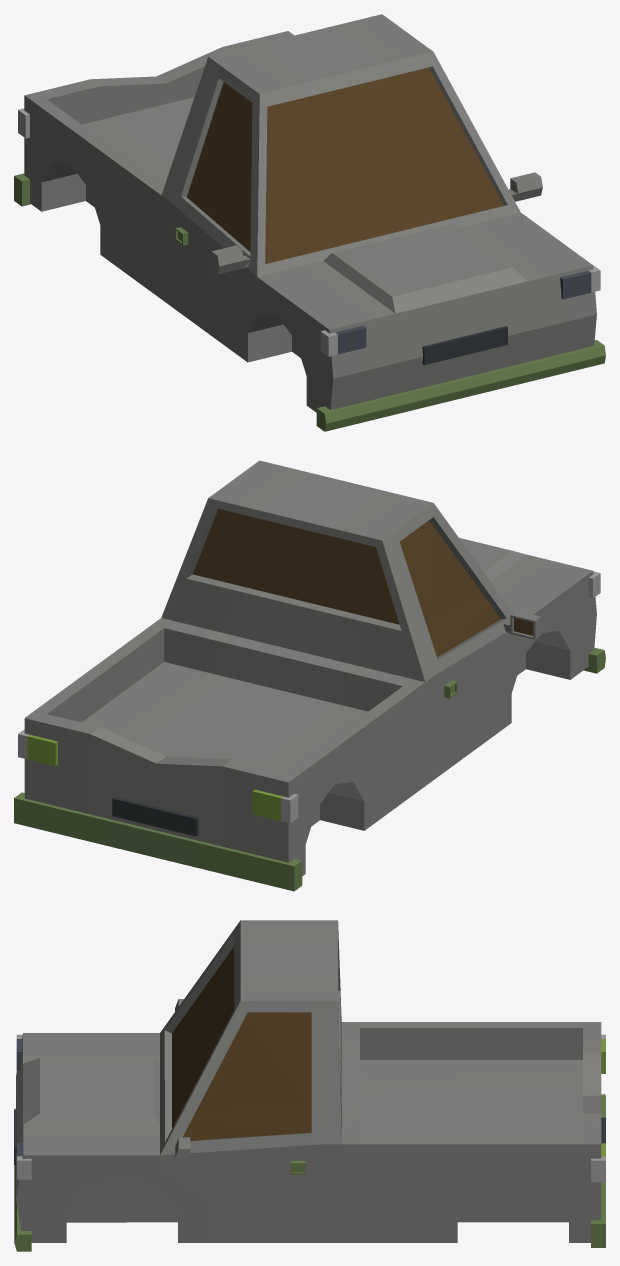
Rendered from Car_18.fbx.
3 renders of one model, top to bottom at view 1: azimuth 30°, elevation 25°; view 2: azimuth 150°, elevation 25°; view 3: azimuth 270°, elevation 25°, orthographic. The views are drawn at different scales.
Visible parts, largest first — view 1: Car_18; view 2: Car_18; view 3: Car_18.
Part boxes in pixels (left/top/right/bottom): Car_18: left=14, top=14, right=605, bottom=431; Car_18: left=14, top=460, right=605, bottom=891; Car_18: left=14, top=920, right=605, bottom=1251.
Bounding box in the file's own units: 1.96 × 1.38 × 3.28.
